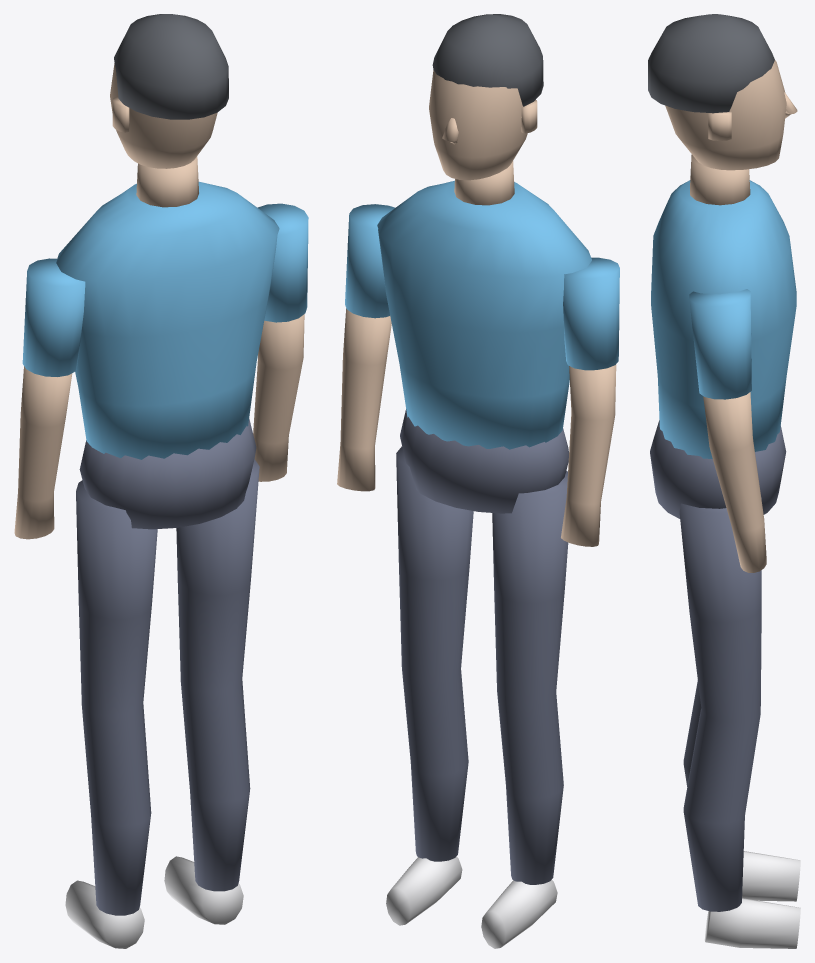
Rendered from pedestrian.glb.
The picture shows the model from 3 angles, left to right: view 1: azimuth 30°, elevation 25°; view 2: azimuth 150°, elevation 25°; view 3: azimuth 270°, elevation 25°; orthographic projection. The views are drawn at different scales.
Parts seen in each view (by area): view 1: Torso, Leg_L_PantLeg, Leg_R_PantLeg, Pelvis, Hair, Arm_L_Forearm, Arm_R_Forearm, Arm_L_Sleeve, Head.001, Arm_R_Sleeve, Leg_L_Shoe, Leg_R_Shoe (+1 smaller); view 2: Torso, Leg_L_PantLeg, Leg_R_PantLeg, Pelvis, Head.001, Arm_L_Forearm, Arm_R_Forearm, Hair, Arm_L_Sleeve, Arm_R_Sleeve, Leg_L_Shoe, Leg_R_Shoe (+1 smaller); view 3: Torso, Leg_R_PantLeg, Hair, Head.001, Arm_R_Forearm, Arm_R_Sleeve, Pelvis, Leg_R_Shoe, Leg_L_Shoe, Neck, Leg_L_PantLeg, Ear_0.094.
Boxes of the visible parts, x1=… form: Torso: x1=56, y1=181, x2=279, y2=459; Leg_L_PantLeg: x1=76, y1=480, x2=157, y2=915; Leg_R_PantLeg: x1=176, y1=459, x2=259, y2=891; Pelvis: x1=79, y1=418, x2=256, y2=529; Hair: x1=114, y1=14, x2=228, y2=119; Arm_L_Forearm: x1=14, y1=366, x2=72, y2=539; Arm_R_Forearm: x1=253, y1=314, x2=304, y2=481; Arm_L_Sleeve: x1=22, y1=258, x2=85, y2=376; Head.001: x1=110, y1=63, x2=217, y2=168; Arm_R_Sleeve: x1=257, y1=203, x2=308, y2=322; Leg_L_Shoe: x1=65, y1=880, x2=144, y2=948; Leg_R_Shoe: x1=164, y1=856, x2=243, y2=924; Torso: x1=377, y1=180, x2=591, y2=449; Leg_L_PantLeg: x1=492, y1=471, x2=568, y2=884; Leg_R_PantLeg: x1=396, y1=446, x2=473, y2=861; Pelvis: x1=400, y1=409, x2=568, y2=513; Head.001: x1=429, y1=70, x2=527, y2=180; Arm_L_Forearm: x1=561, y1=364, x2=616, y2=546; Arm_R_Forearm: x1=337, y1=308, x2=391, y2=491; Hair: x1=432, y1=14, x2=543, y2=106; Arm_L_Sleeve: x1=563, y1=257, x2=619, y2=370; Arm_R_Sleeve: x1=345, y1=204, x2=394, y2=318; Leg_L_Shoe: x1=481, y1=880, x2=557, y2=948; Leg_R_Shoe: x1=386, y1=856, x2=462, y2=925; Torso: x1=651, y1=180, x2=796, y2=458; Leg_R_PantLeg: x1=679, y1=498, x2=761, y2=911; Hair: x1=648, y1=14, x2=774, y2=113; Head.001: x1=665, y1=60, x2=786, y2=170; Arm_R_Forearm: x1=703, y1=392, x2=766, y2=572; Arm_R_Sleeve: x1=689, y1=289, x2=751, y2=399; Pelvis: x1=650, y1=420, x2=786, y2=518; Leg_R_Shoe: x1=704, y1=898, x2=800, y2=948; Leg_L_Shoe: x1=742, y1=851, x2=800, y2=901; Neck: x1=690, y1=154, x2=750, y2=205; Leg_L_PantLeg: x1=683, y1=680, x2=701, y2=786; Ear_0.094: x1=708, y1=111, x2=731, y2=140.
Size of the model in its own units: 0.5608 by 1.78 by 0.272.
